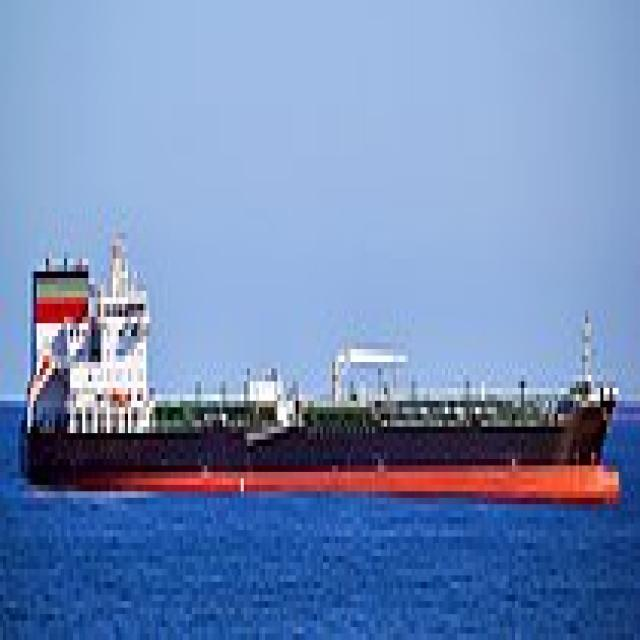Tanker: (15, 220, 619, 498)
